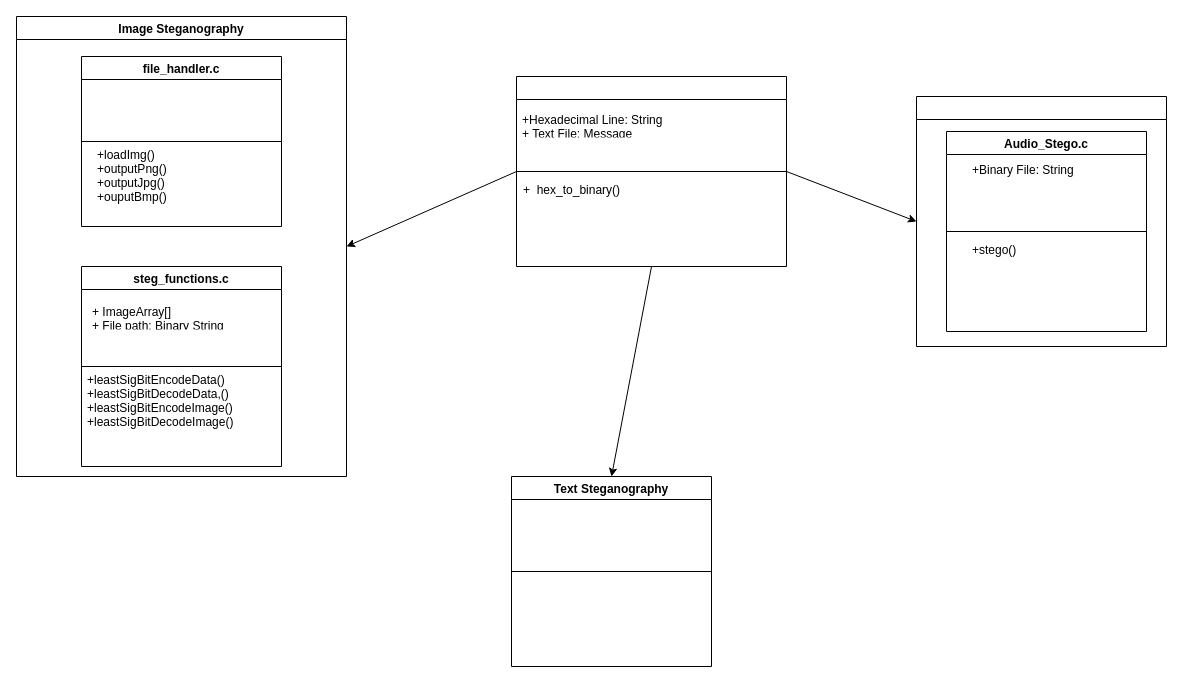
Image size: 1183x683. Some labels were removed from this diagram. The box of each missing label's shape, as (x1, y1, x2, y2) in pixels:
Audio Steganography: (916, 96, 1166, 346)
Text to Binary String: (516, 76, 786, 266)
